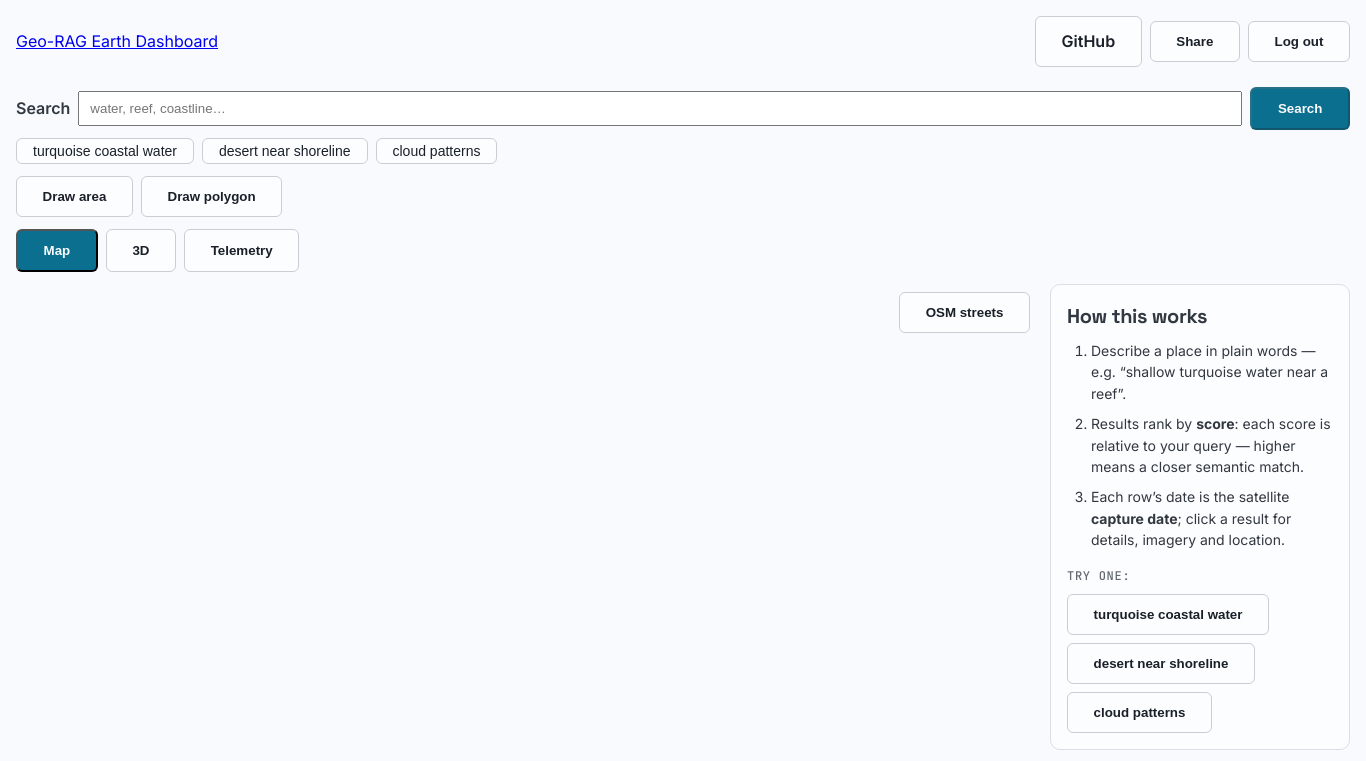
Test: URL restore + pending tile (P0/P1 Task 5) › Share falls back to showing the URL when clipboard is unavailable (RF#4 pin)
Click the button with test id "share-button": [1195, 41] box [1150,21,1240,62]
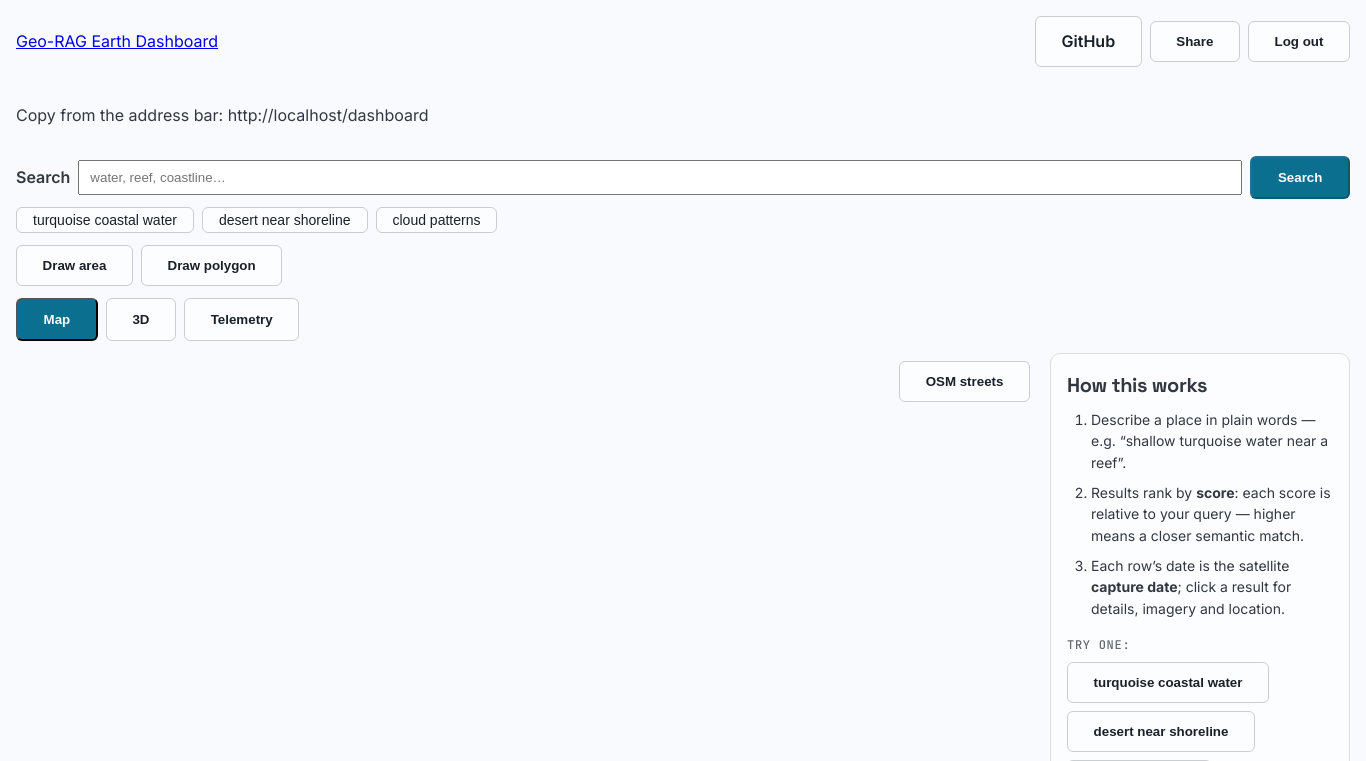
Check: the message shows "Copy from the address bar", box [16,105,428,125]
